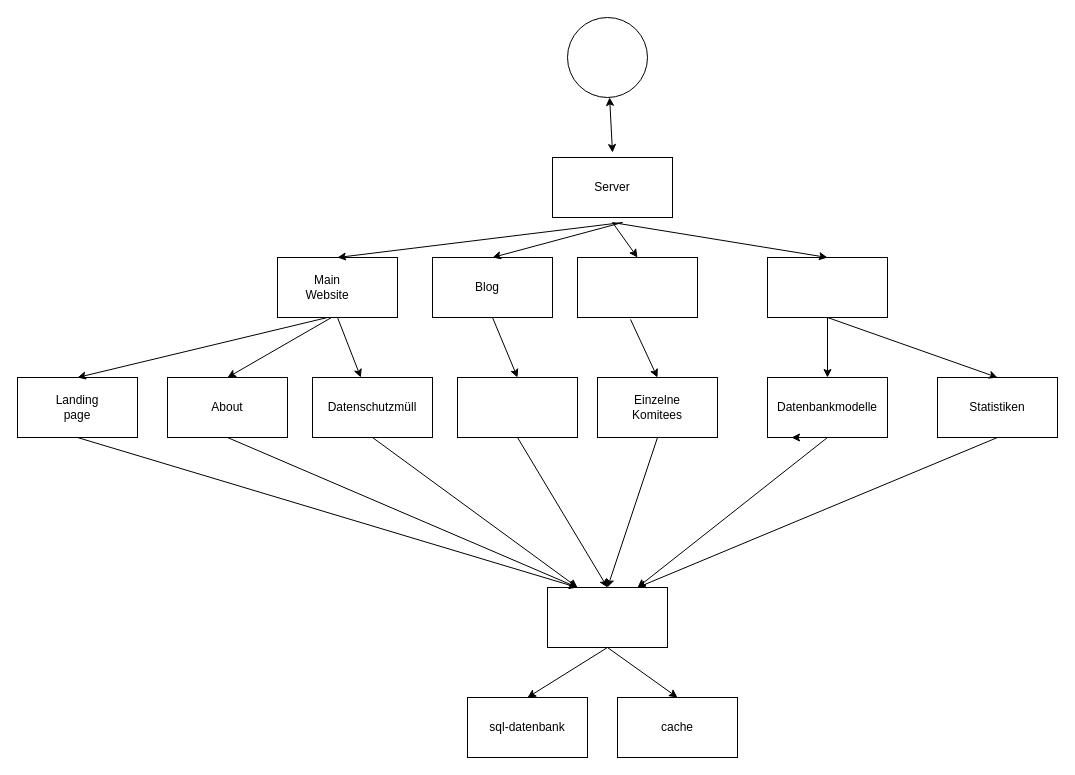
Some shapes in this 1075 by 775 pixel diagram are drawn without their labels. Here are the shapes that lost their labels. From the top down, the centre of each, then its label:
At point 607,57: "Client".
At point 637,287: "Komitees".
At point 827,287: "admin".
At point 517,407: "Einzelne Blogartikel".
At point 607,617: "Database-Mapper".
